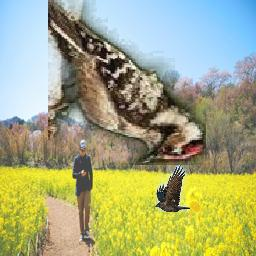Crow: (156, 166, 191, 213)
Woodpecker: (48, 1, 206, 166)
